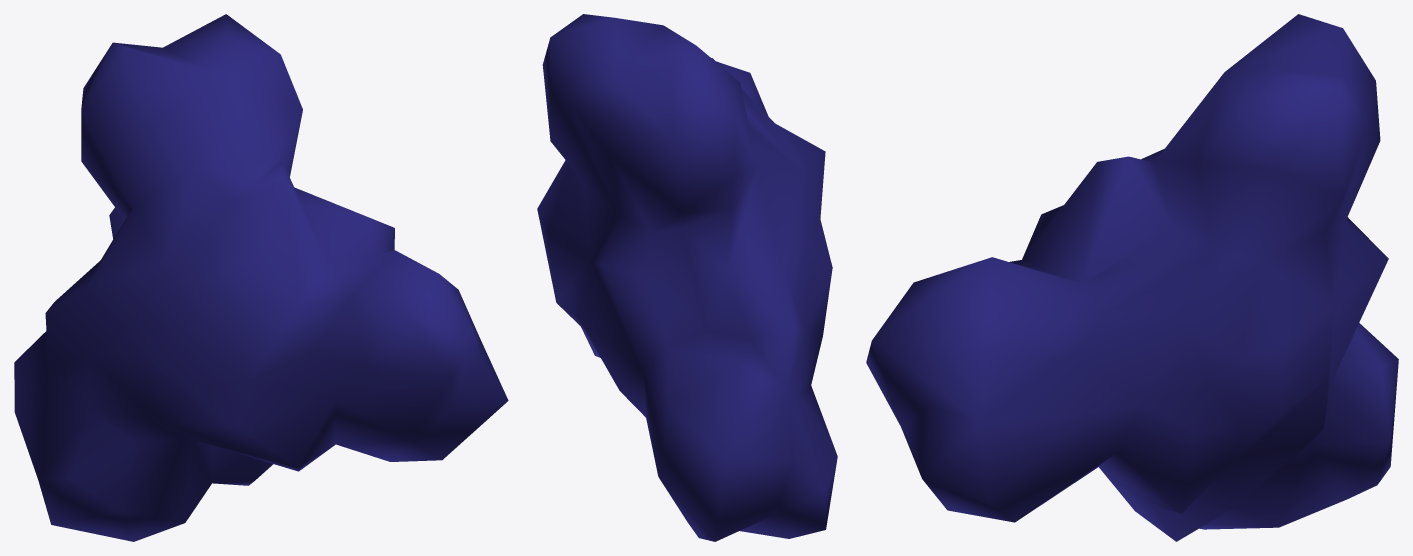
The model's file is Mgenitalium_hprK_1knx_0_1_0.dae.
The picture shows the model from 3 angles, left to right: view 1: azimuth 30°, elevation 25°; view 2: azimuth 150°, elevation 25°; view 3: azimuth 270°, elevation 25°; orthographic projection. The views are drawn at different scales.
Parts seen in each view (by area): view 1: CoarseMS_1knx; view 2: CoarseMS_1knx; view 3: CoarseMS_1knx.
Boxes of the visible parts, x1,y1,x2,y2 form: CoarseMS_1knx: (14, 14, 508, 541); CoarseMS_1knx: (537, 14, 837, 541); CoarseMS_1knx: (866, 14, 1398, 541).
Bounding box in the file's own units: 108 × 145 × 131.
